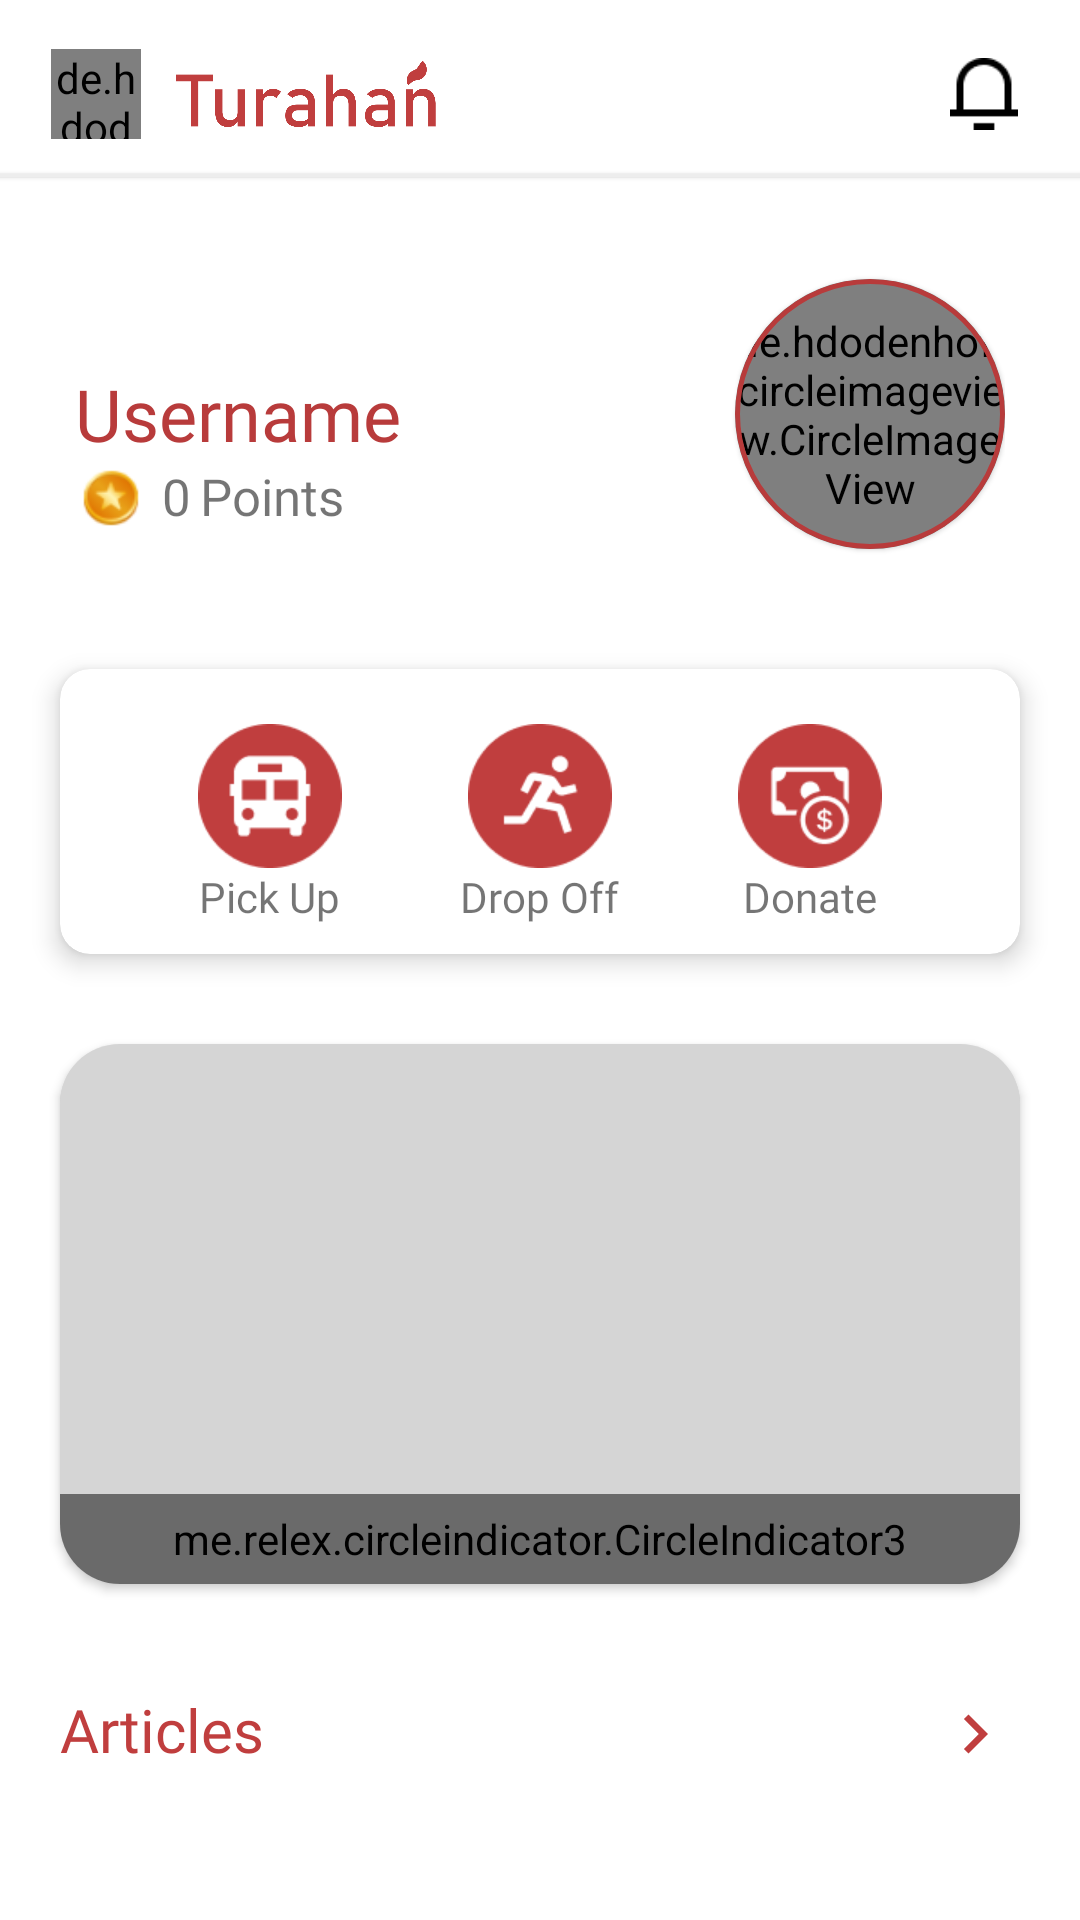

Where to tap for icons on this 1080px x 1920px app screen, as point (x, y):
arrow: point (976, 1734)
coinicon: point (111, 498)
notificon: point (984, 94)
